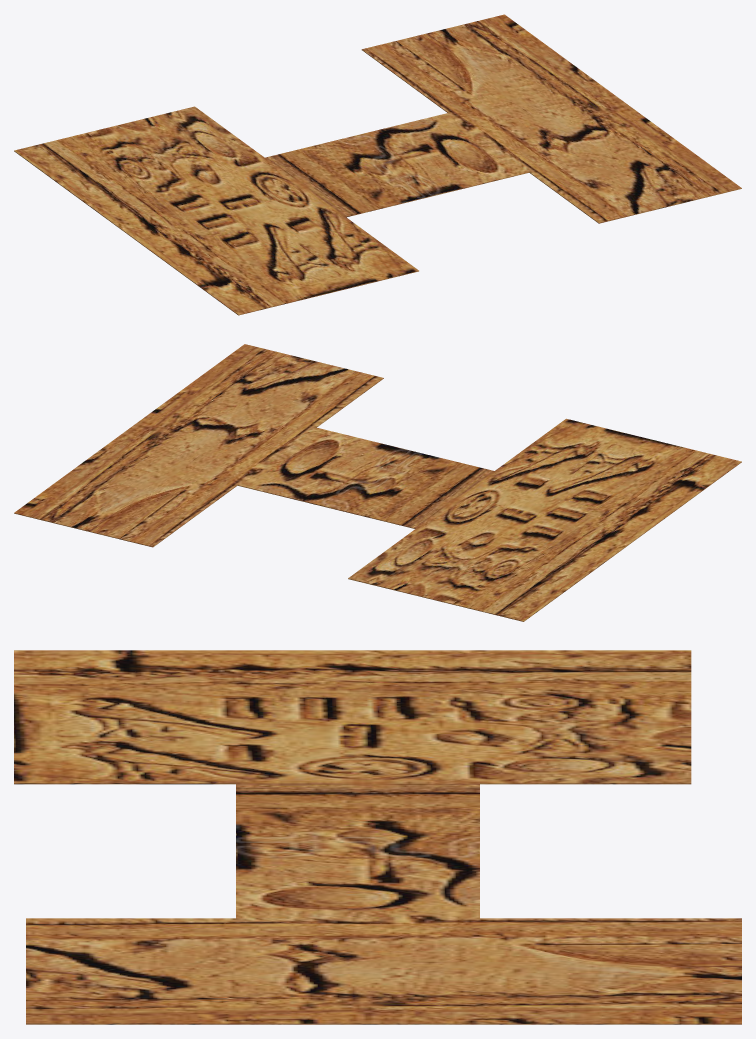
The model's file is pisoPuzzlle1.fbx.
3 renders of one model, top to bottom at view 1: azimuth 30°, elevation 25°; view 2: azimuth 150°, elevation 25°; view 3: azimuth 270°, elevation 25°, orthographic. The views are drawn at different scales.
Visible parts, largest first — view 1: Cube; view 2: Cube; view 3: Cube.
Part boxes in pixels (box(x1,y1,x2,y2)): Cube: box(14, 14, 741, 315); Cube: box(14, 344, 741, 621); Cube: box(14, 650, 741, 1024).
Bounding box in the file's own units: 109301 × 135 × 90011.
Materials: 1 (1 with a texture image).
